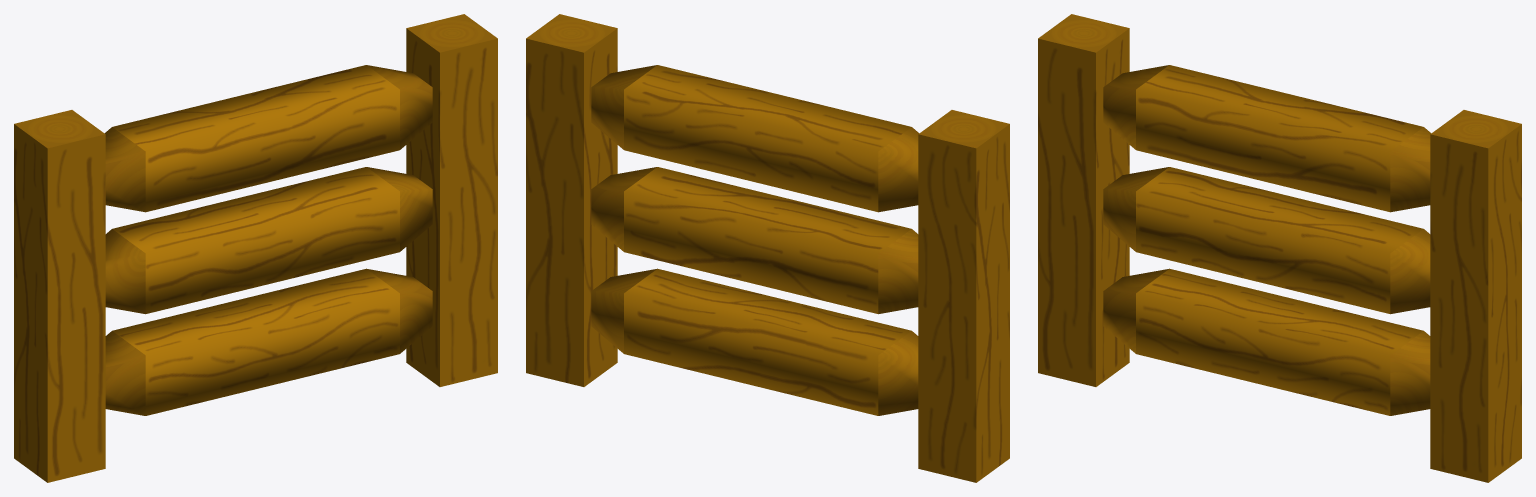
File: HurdleTest.fbx
3 views of the same model, side by side, from view 1: azimuth 30°, elevation 25°; view 2: azimuth 150°, elevation 25°; view 3: azimuth 330°, elevation 25° (orthographic).
Parts seen in each view (by area): view 1: Post_L, Crossbeam1, Crossbeam2, Crossbeam, Post_R; view 2: Post_L, Crossbeam1, Crossbeam2, Crossbeam, Post_R; view 3: Post_R, Crossbeam1, Crossbeam2, Crossbeam, Post_L.
Boxes of the visible parts, x1=… form: Post_L: x1=14, y1=110, x2=105, y2=482; Crossbeam1: x1=105, y1=167, x2=432, y2=314; Crossbeam2: x1=105, y1=268, x2=432, y2=415; Crossbeam: x1=104, y1=65, x2=432, y2=212; Post_R: x1=406, y1=14, x2=497, y2=386; Post_L: x1=918, y1=110, x2=1009, y2=482; Crossbeam1: x1=591, y1=167, x2=918, y2=314; Crossbeam2: x1=591, y1=268, x2=918, y2=415; Crossbeam: x1=591, y1=65, x2=919, y2=212; Post_R: x1=526, y1=14, x2=617, y2=386; Post_R: x1=1430, y1=110, x2=1521, y2=482; Crossbeam1: x1=1103, y1=167, x2=1430, y2=314; Crossbeam2: x1=1103, y1=268, x2=1430, y2=415; Crossbeam: x1=1103, y1=65, x2=1431, y2=212; Post_L: x1=1038, y1=14, x2=1129, y2=386.
Bounding box in the file's own units: 310 × 220 × 40.
Materials: 1 (1 with a texture image).
